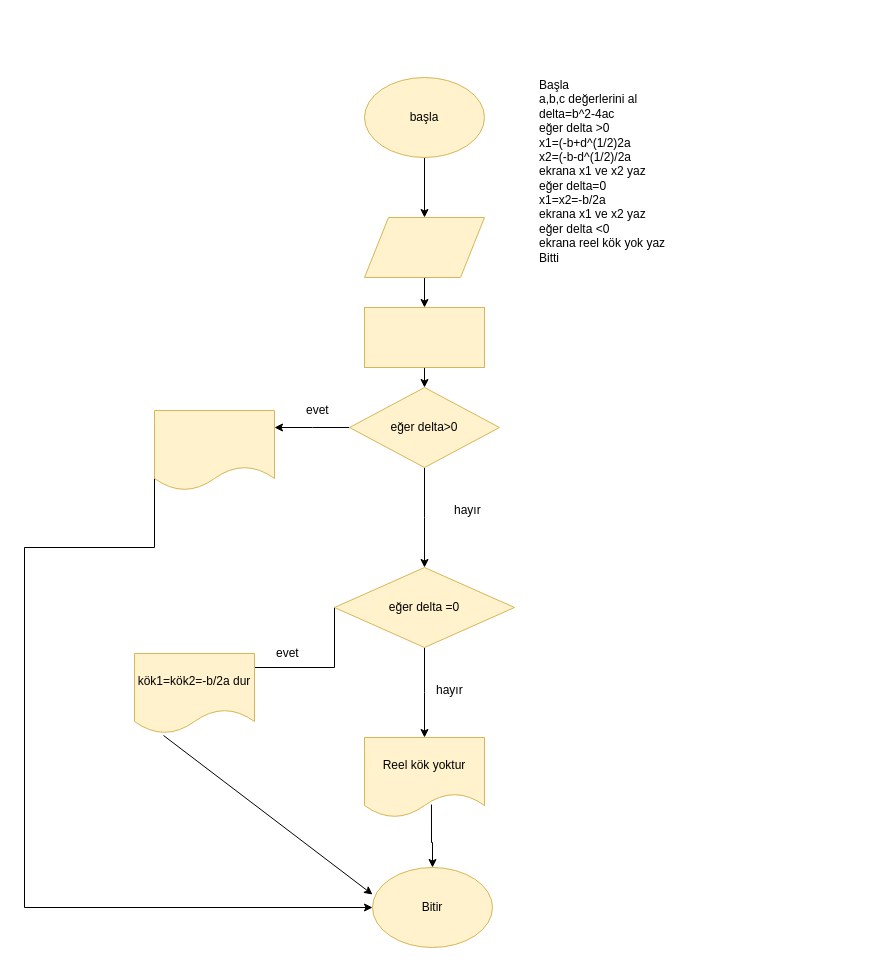
This 882x965 diagram has some shape labels left out. Each missing label, with the box of its shape:
a,b,c: (364, 216, 484, 278)
delta=b^2-4ac: (364, 306, 484, 368)
kök1 (-b+d^(1/2)2a dır kök2 (-b-d^(1/2)/2a dır: (154, 410, 274, 490)
